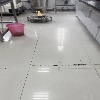fire: (36, 10, 43, 17)
